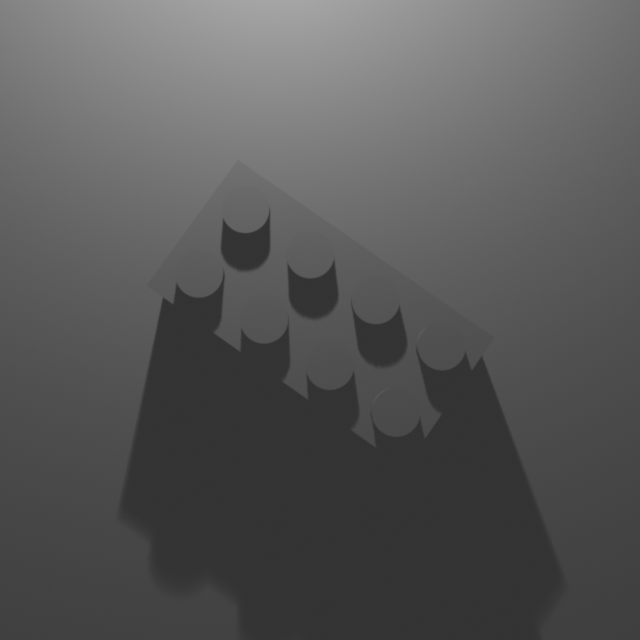lego_2x4: (143, 155, 498, 469)
